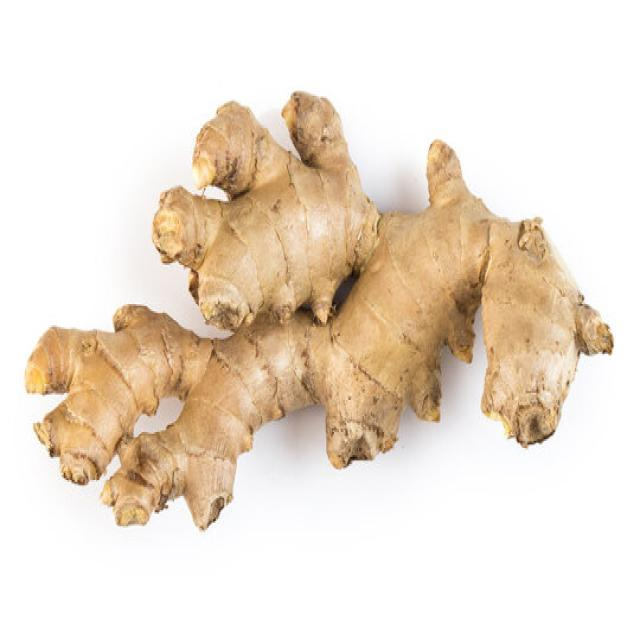Ginger: (24, 89, 612, 530), (150, 89, 380, 332)
